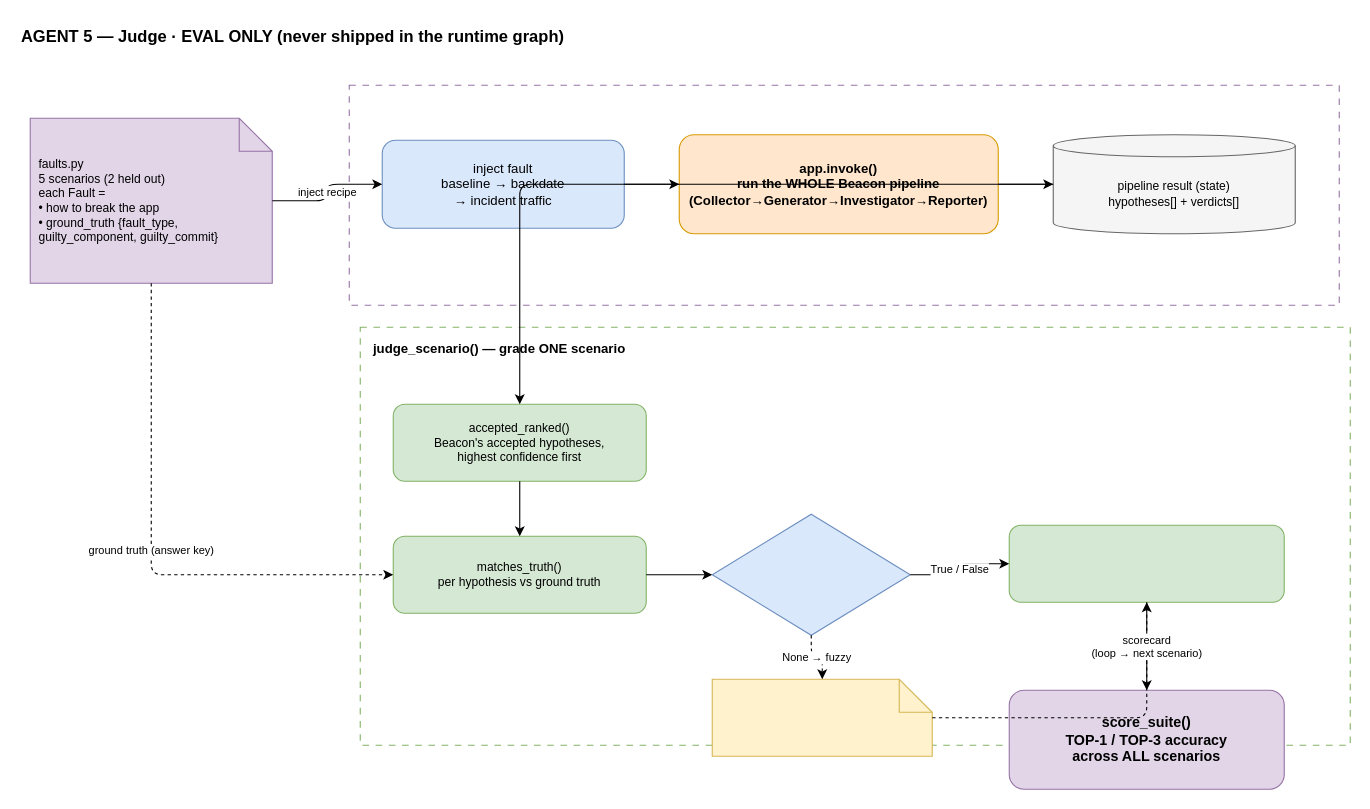
This 1370x809 diagram has some shape labels left out. The shapes that lost their labels are listed below. From the top down, each one's box as (x1, y1, x2, y2) in pixels, then its label:
(348, 84, 1339, 305): run_eval.py — outer loop: for each scenario
(711, 513, 910, 635): _deterministic_match component-stem / commit-hash string check
(1008, 524, 1284, 602): top1 = does the #1 answer match? top3 = does any of the top 3 match?
(711, 678, 932, 756): _llm_match() 1 Gemini call (fuzzy tiebreaker) fails safe → False if no key
